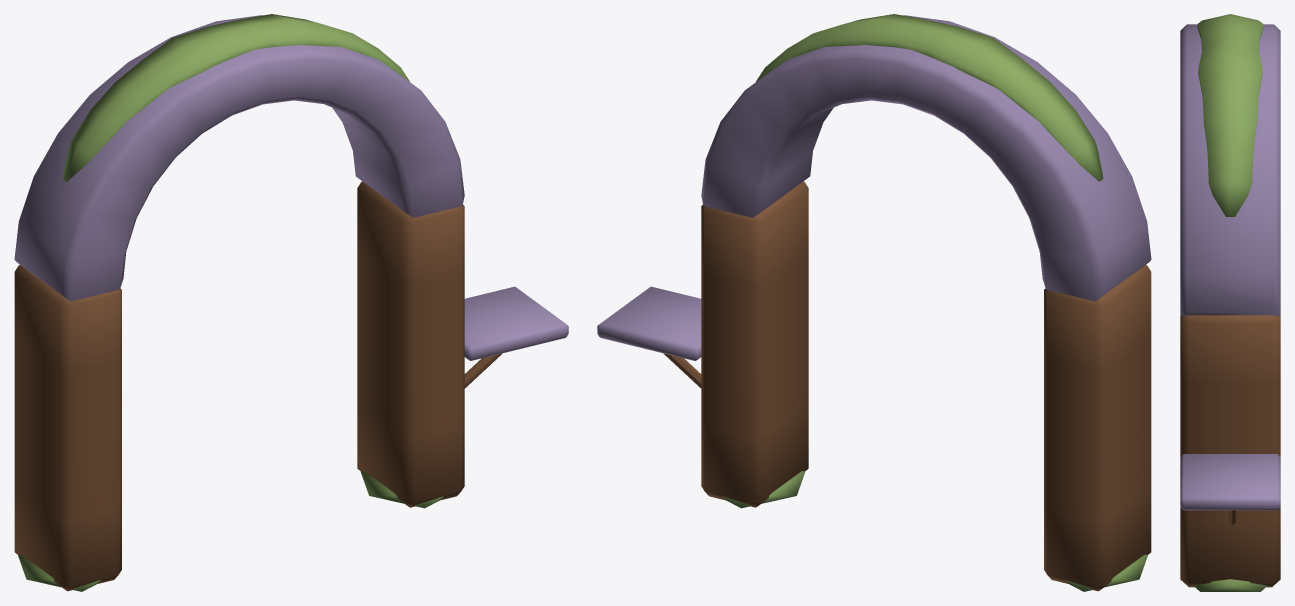
The model's file is Kit_Calm_GateArch_01.glb.
The picture shows the model from 3 angles, left to right: view 1: azimuth 30°, elevation 25°; view 2: azimuth 150°, elevation 25°; view 3: azimuth 270°, elevation 25°; orthographic projection. The views are drawn at different scales.
Visible parts, largest first — view 1: EX_GateArch01_Wood, EX_GateArch01_Leaves; view 2: EX_GateArch01_Wood, EX_GateArch01_Leaves; view 3: EX_GateArch01_Wood, EX_GateArch01_Leaves.
Boxes of the visible parts, x1,y1,x2,y2 form: EX_GateArch01_Wood: (14,15,568,591); EX_GateArch01_Leaves: (18,14,443,591); EX_GateArch01_Wood: (597,15,1151,591); EX_GateArch01_Leaves: (722,14,1147,591); EX_GateArch01_Wood: (1180,24,1280,587); EX_GateArch01_Leaves: (1193,14,1267,591).
Size of what is drawn, in the model's own units: 3.32 by 3.07 by 0.6.
